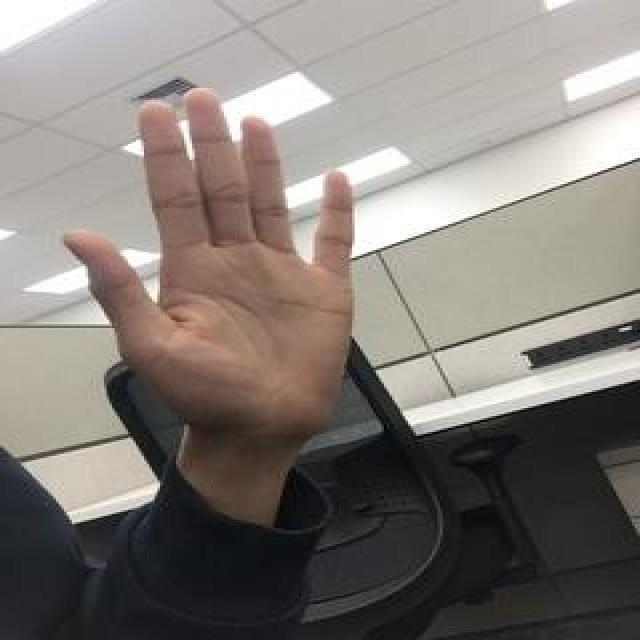no-gloves: (54, 88, 366, 434)
